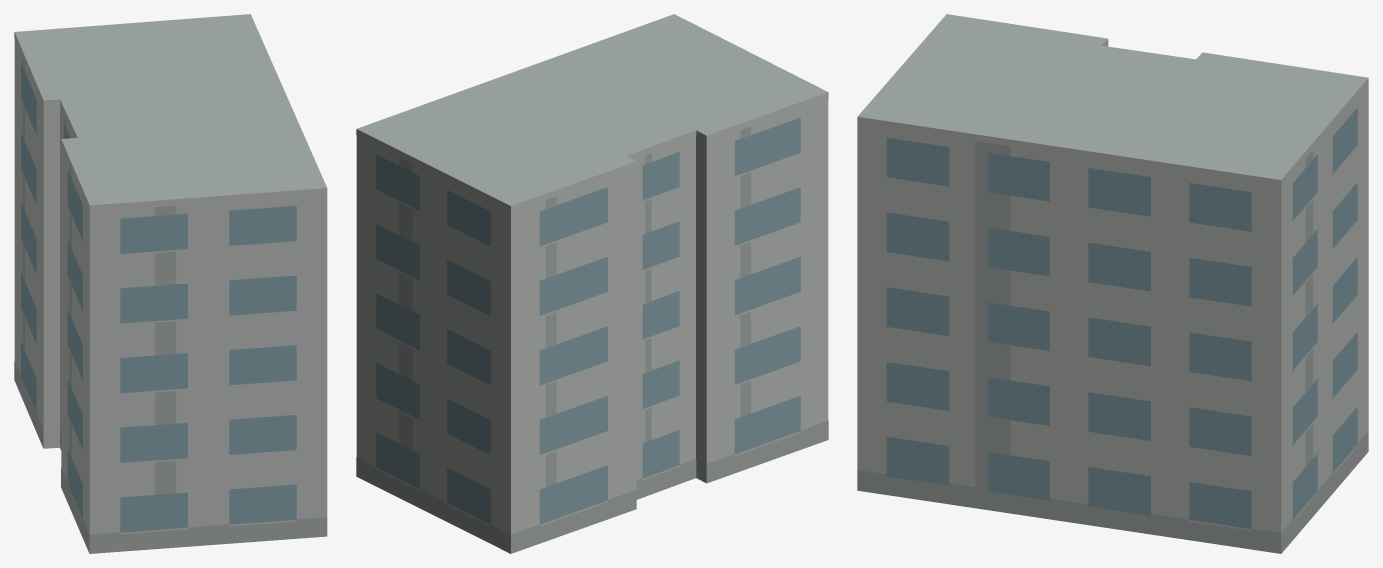
The model's file is survey-upis-32893420.glb.
3 renders of one model, left to right at view 1: azimuth 30°, elevation 25°; view 2: azimuth 150°, elevation 25°; view 3: azimuth 270°, elevation 25°, orthographic. The views are drawn at different scales.
Visible parts, largest first — view 1: survey-upis-32893420.tmp; view 2: survey-upis-32893420.tmp; view 3: survey-upis-32893420.tmp.
Part boxes in pixels (box(x1,y1,x2,y2)): survey-upis-32893420.tmp: box(14, 14, 327, 553); survey-upis-32893420.tmp: box(356, 14, 828, 553); survey-upis-32893420.tmp: box(857, 14, 1368, 553).
Bounding box in the file's own units: 12.67 × 13.3 × 16.49.
